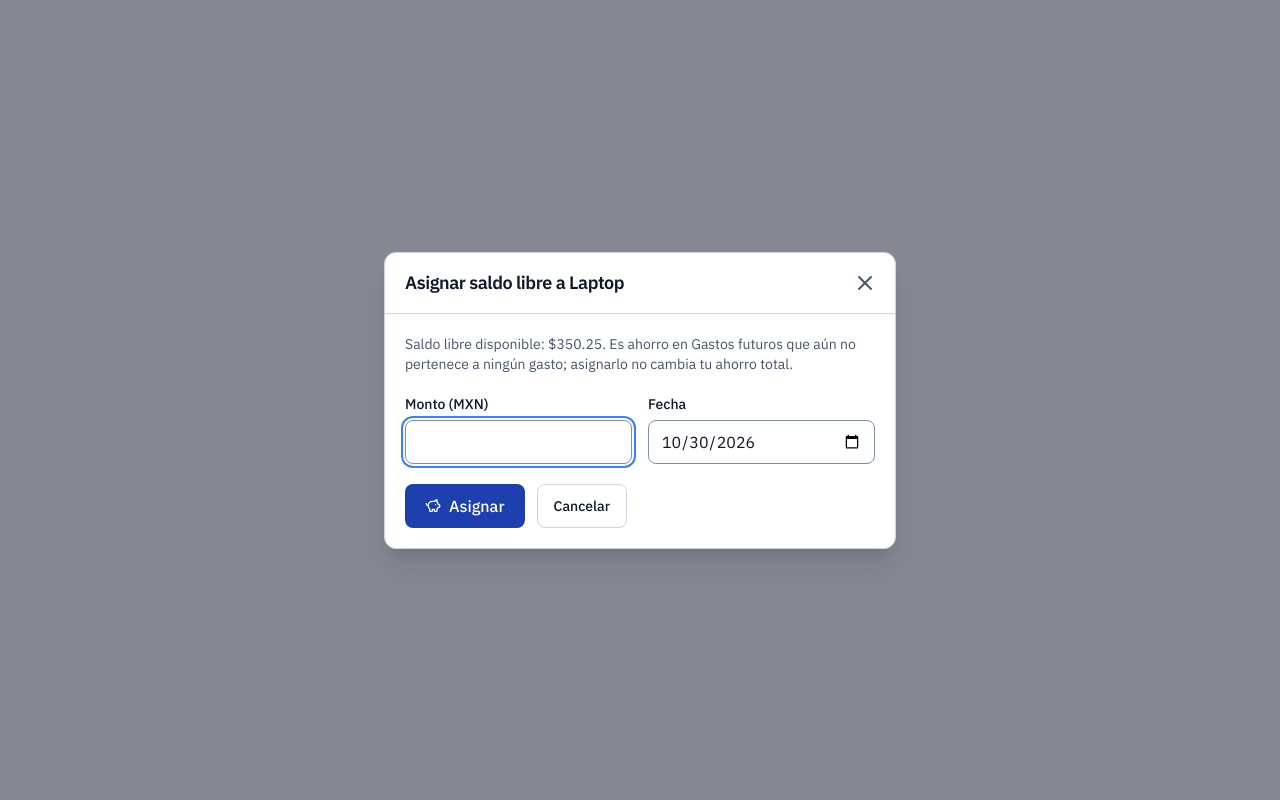
Scenario: AmountDialog › refuses to assign more than the free balance and sends nothing
Type "350.26" into the field labelled "Monto (MXN)".
click(518, 442); type("350.26")  # box x1=405 y1=420 x2=632 y2=464
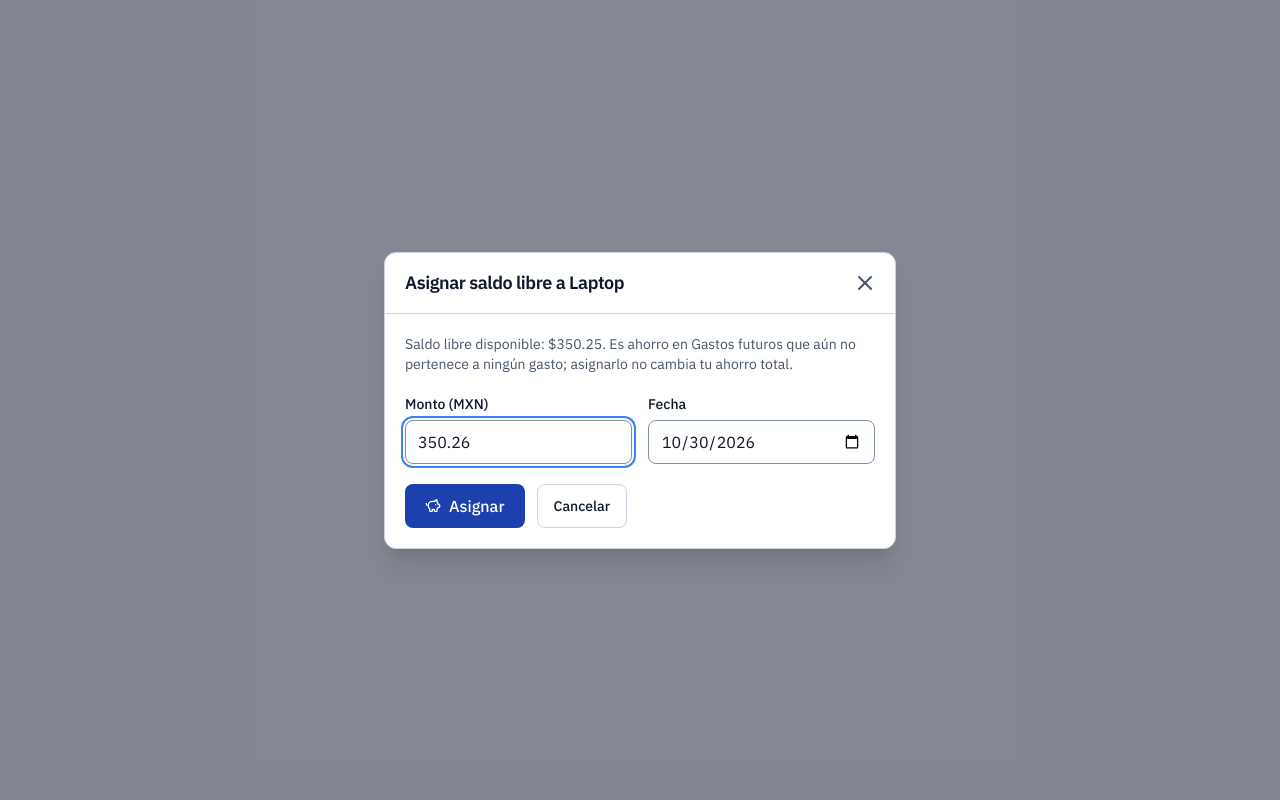
Click the button "Asignar".
click(465, 506)  # box x1=405 y1=484 x2=524 y2=528
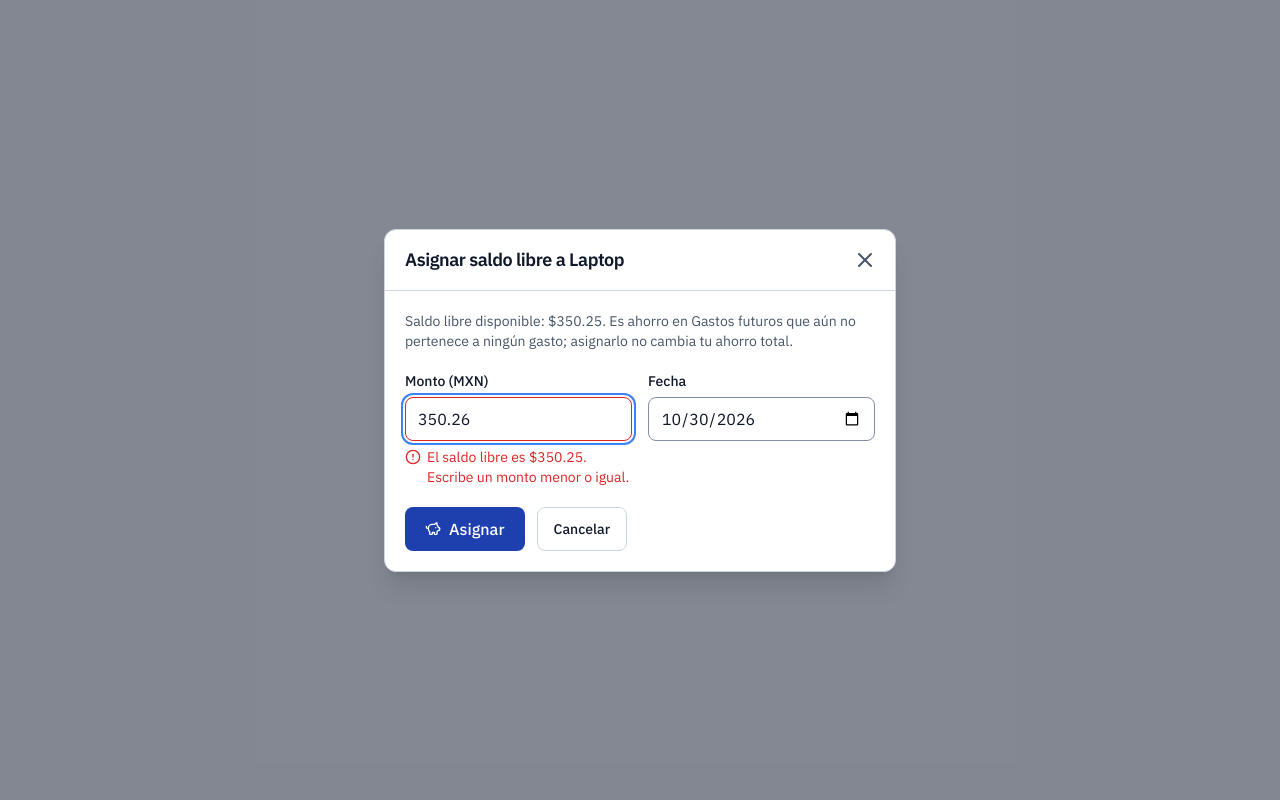
Expected: the message shows "El saldo libre es $350.25", x1=427 y1=448 x2=629 y2=486
